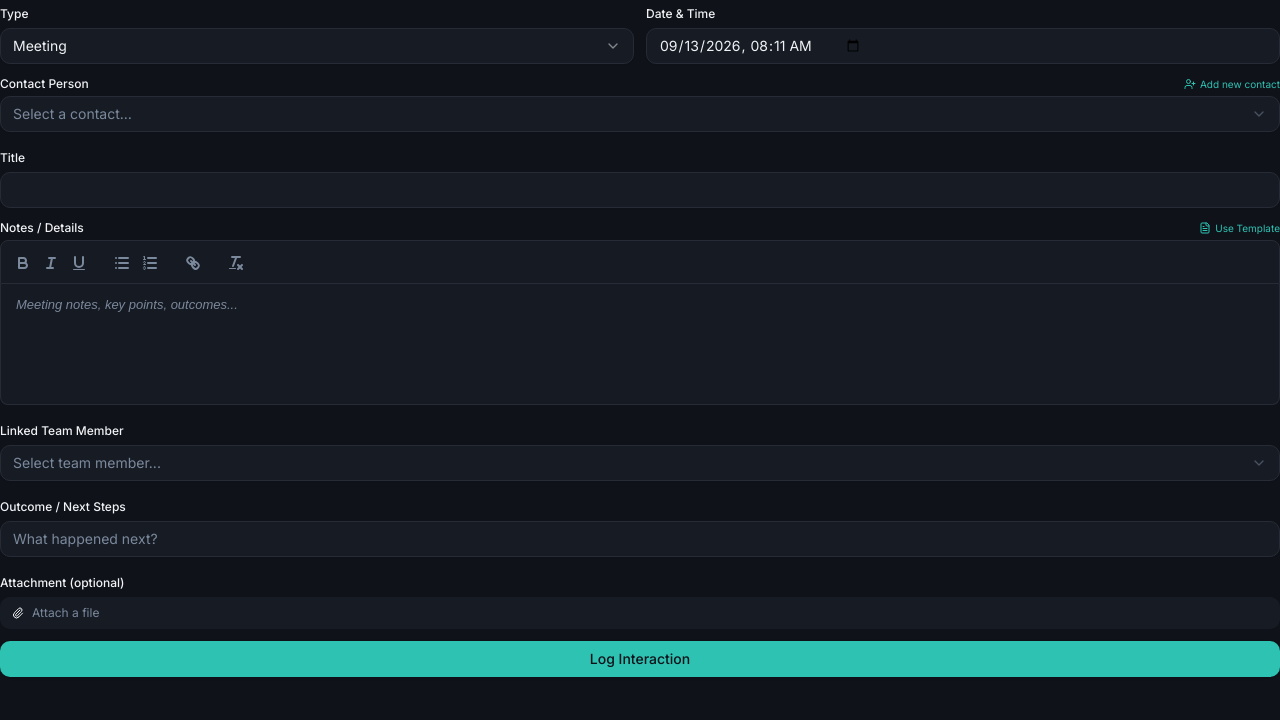
Scenario: Log Interaction template use count › does not count merely opening the template list
Click the button "Use Template".
click(1240, 228)  # box [1199,220,1279,236]
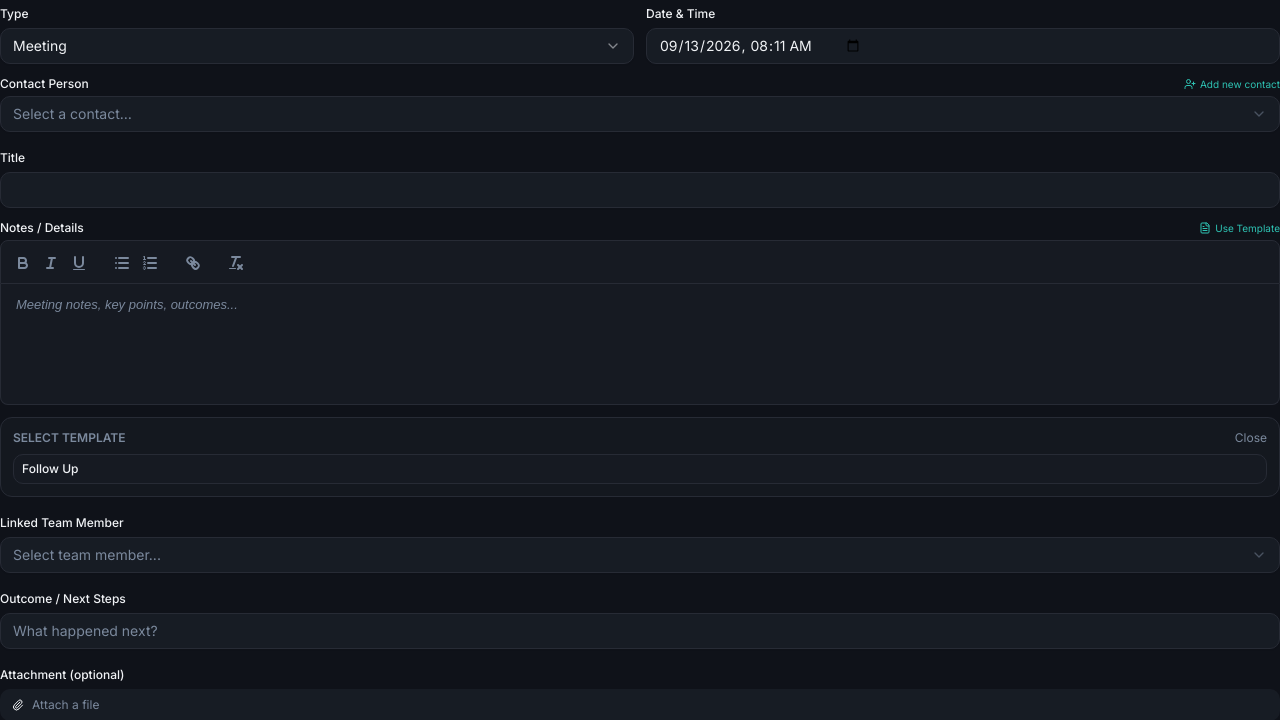
Expected: the button "Follow Up" is shown, [13,454,1267,484]
